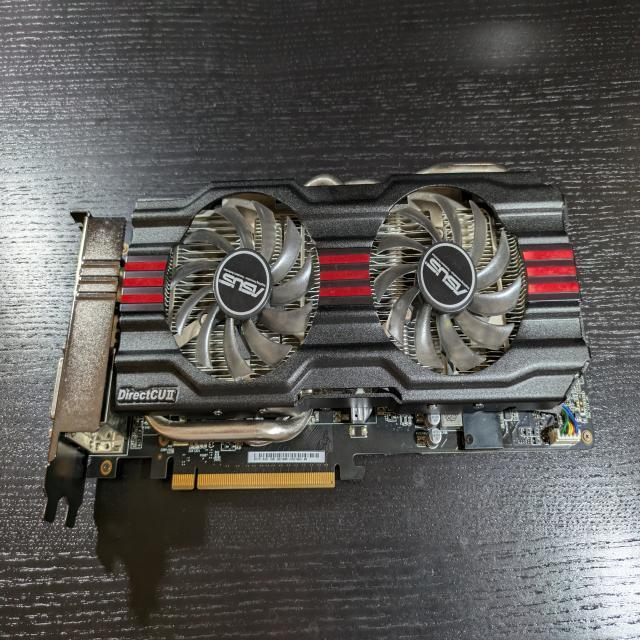GPU: (31, 157, 594, 531)
